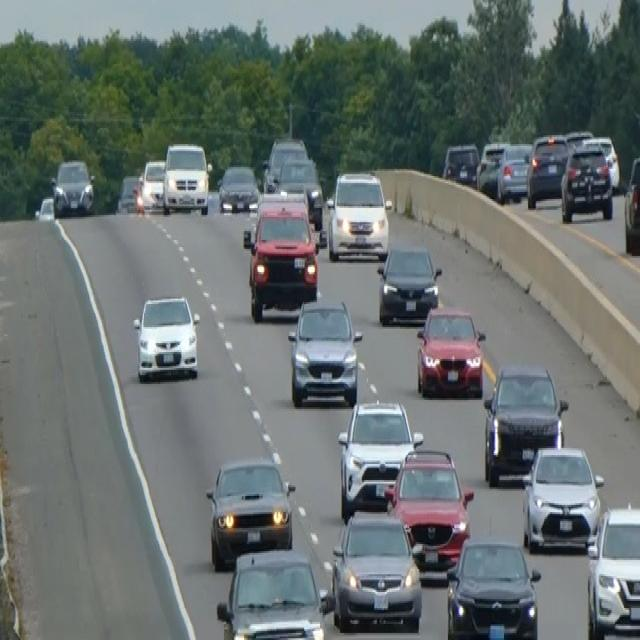car: (328, 509, 422, 631), (383, 446, 474, 571), (482, 361, 568, 485), (337, 398, 423, 519), (205, 455, 295, 569), (216, 546, 327, 638), (445, 535, 541, 638), (520, 443, 604, 553), (286, 297, 362, 407), (586, 502, 639, 638), (415, 302, 486, 398), (132, 292, 200, 382), (325, 169, 391, 261), (376, 244, 442, 326), (560, 140, 613, 222), (276, 153, 323, 229), (526, 132, 569, 208), (483, 140, 532, 202), (51, 156, 95, 217), (262, 134, 307, 190), (217, 162, 259, 213), (582, 134, 620, 190), (442, 140, 479, 187), (476, 139, 510, 190), (623, 153, 639, 252), (139, 156, 166, 212), (116, 172, 142, 214), (35, 194, 55, 222)
jeep: (241, 192, 319, 322)
minivan: (161, 139, 210, 215)
